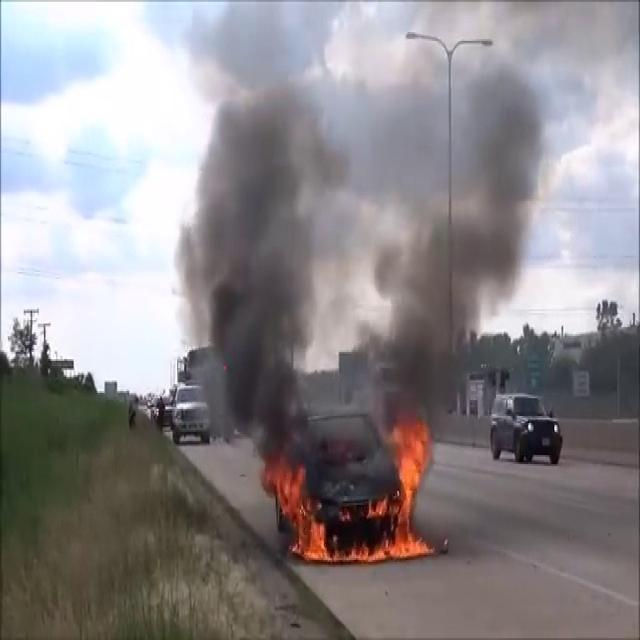Fire: (267, 428, 438, 568)
Smoke: (351, 4, 549, 430), (174, 10, 343, 447)
